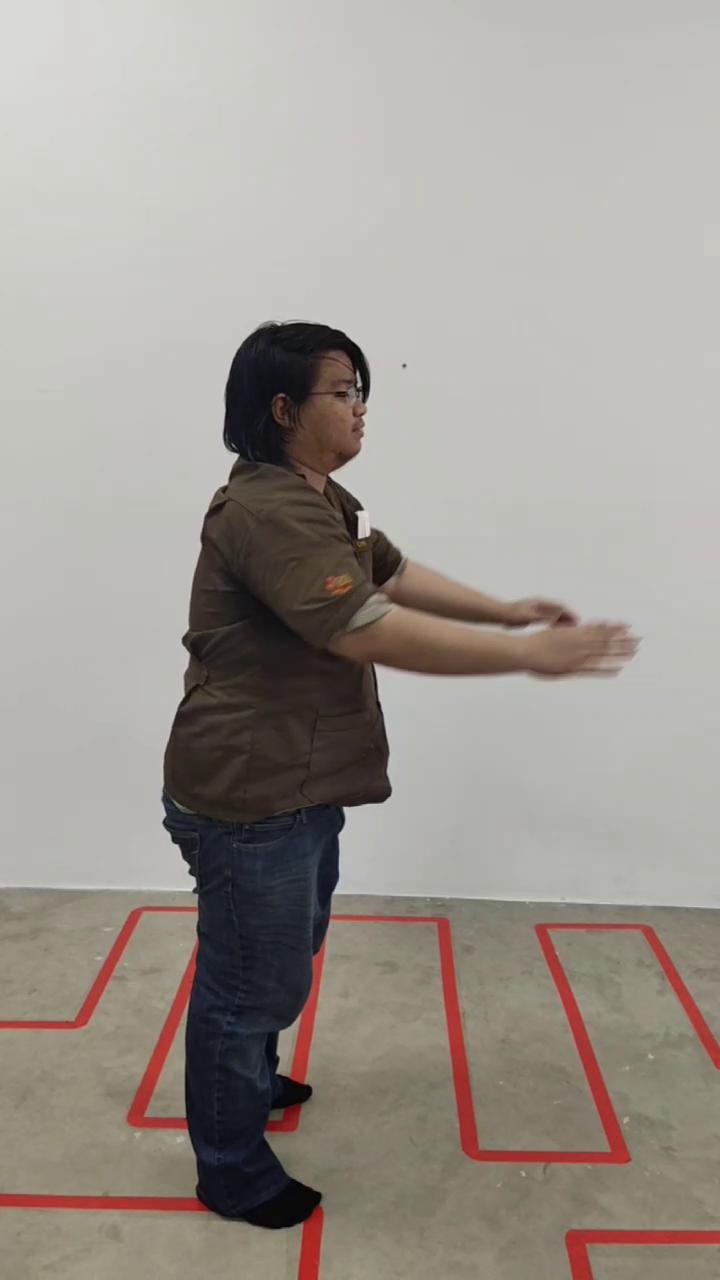squat up: (162, 323, 634, 1232)
